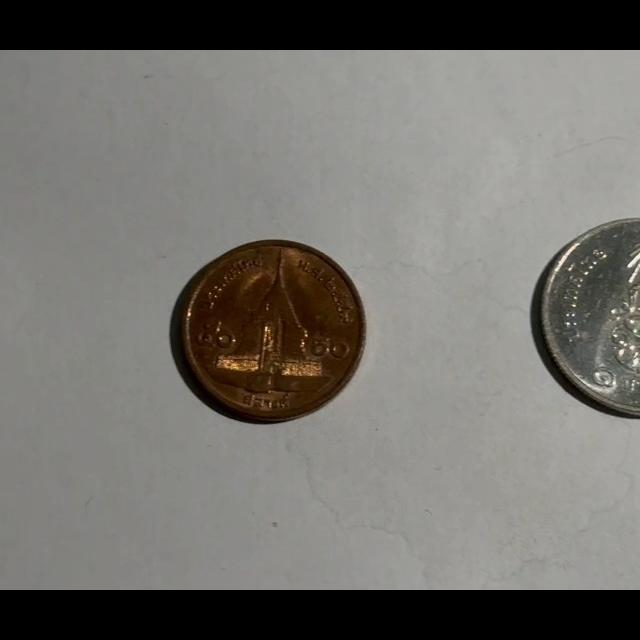1-baht: (533, 218, 640, 418)
50-satang: (177, 242, 365, 422)
